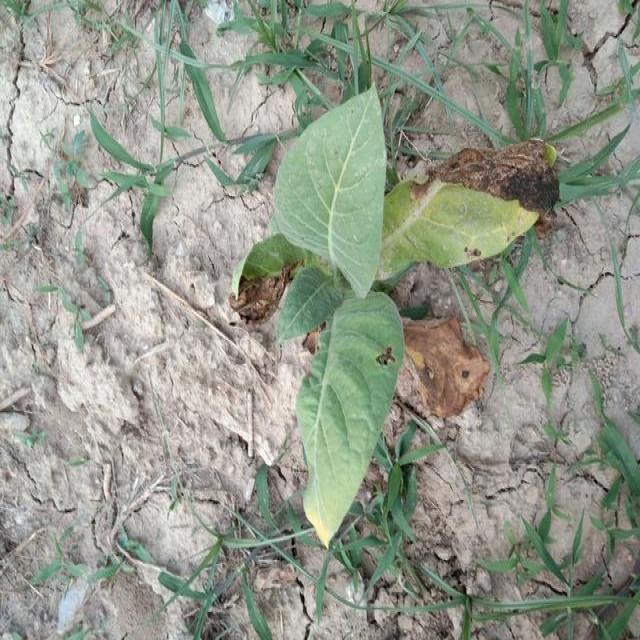crop: (221, 105, 551, 546)
